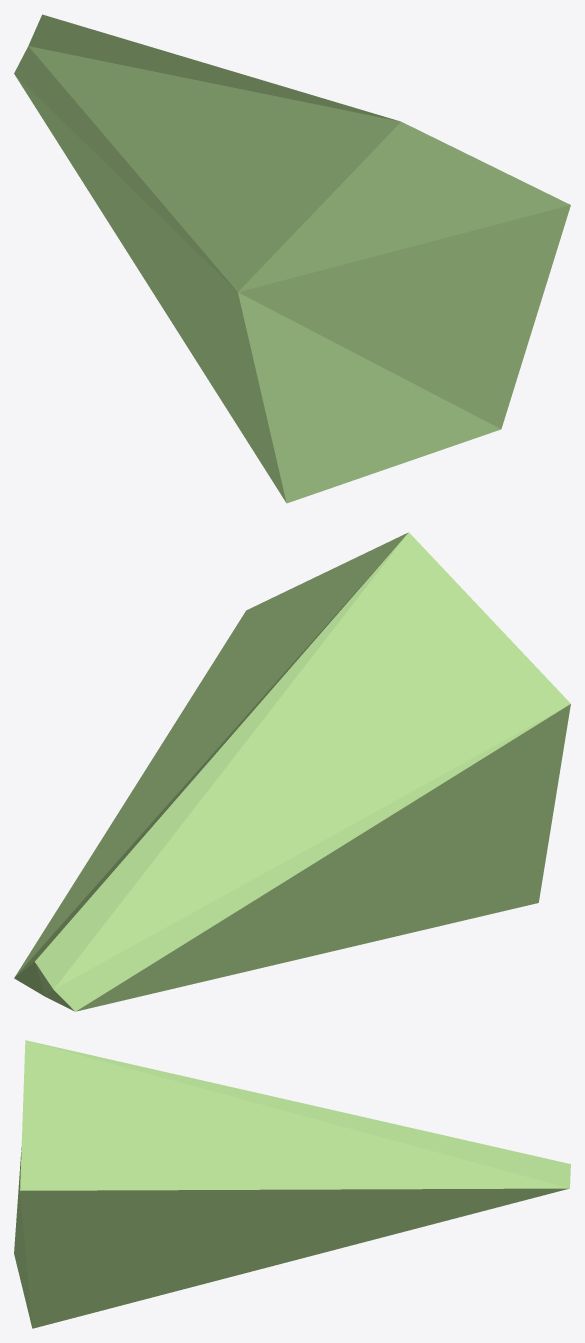
File: GoblinEar.fbx
3 renders of one model, top to bottom at view 1: azimuth 30°, elevation 25°; view 2: azimuth 150°, elevation 25°; view 3: azimuth 270°, elevation 25°, orthographic. The views are drawn at different scales.
Parts seen in each view (by area): view 1: fam_gskin; view 2: fam_gskin; view 3: fam_gskin.
Part boxes in pixels (<box>): fam_gskin: <box>14,14,570,503</box>; fam_gskin: <box>14,532,570,1011</box>; fam_gskin: <box>14,1040,570,1328</box>.
Bounding box in the file's own units: 0.6261 × 0.6302 × 1.23.
